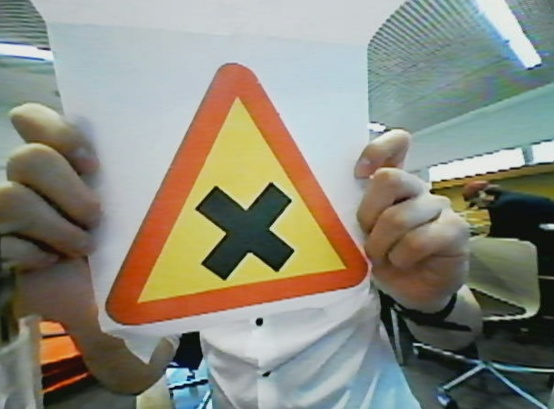junction: (100, 61, 406, 352)
